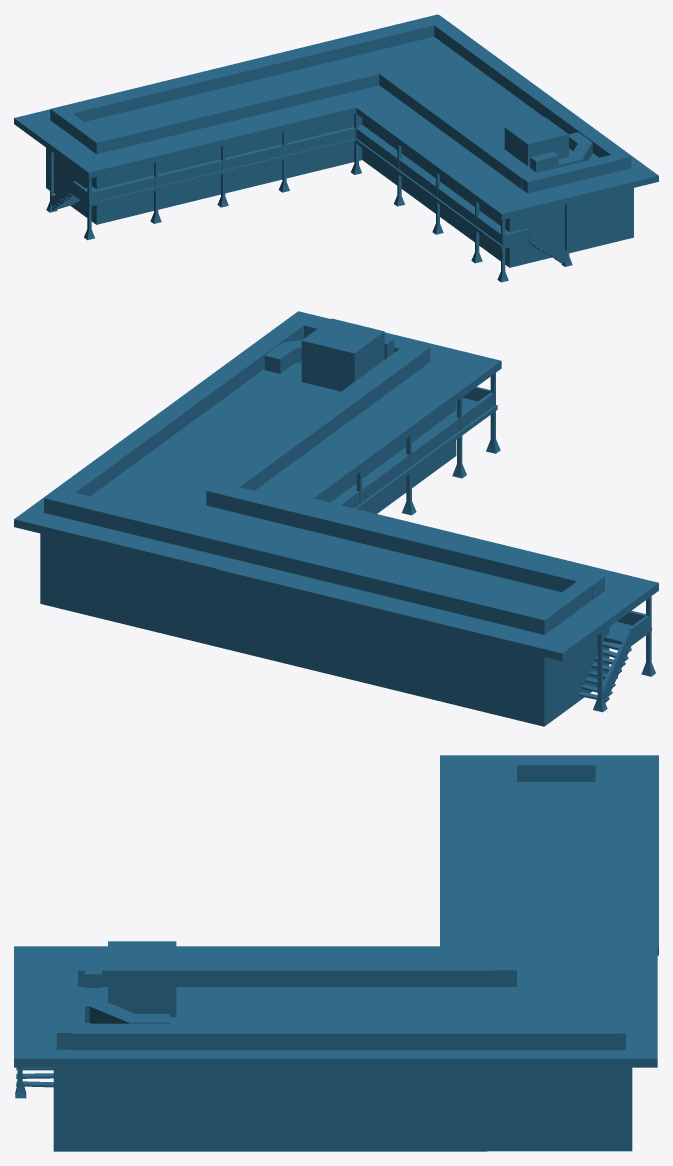
Rendered from SM_Bld_Background_14_Collision.fbx.
3 views of the same model, one above another, from view 1: azimuth 30°, elevation 25°; view 2: azimuth 150°, elevation 25°; view 3: azimuth 270°, elevation 25° (orthographic). The views are drawn at different scales.
Visible parts, largest first — view 1: SM_Bld_Background_14_Collision; view 2: SM_Bld_Background_14_Collision; view 3: SM_Bld_Background_14_Collision.
Boxes of the visible parts, x1,y1,x2,y2 form: SM_Bld_Background_14_Collision: [14, 14, 658, 282]; SM_Bld_Background_14_Collision: [14, 311, 658, 726]; SM_Bld_Background_14_Collision: [14, 755, 658, 1151].
Size of the model in its own units: 2998 by 682 by 2694.
